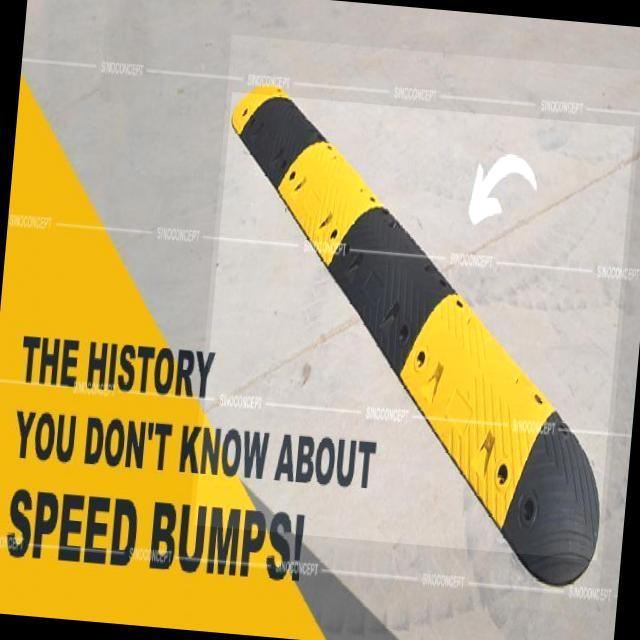speedbreaker: (193, 91, 634, 560)
